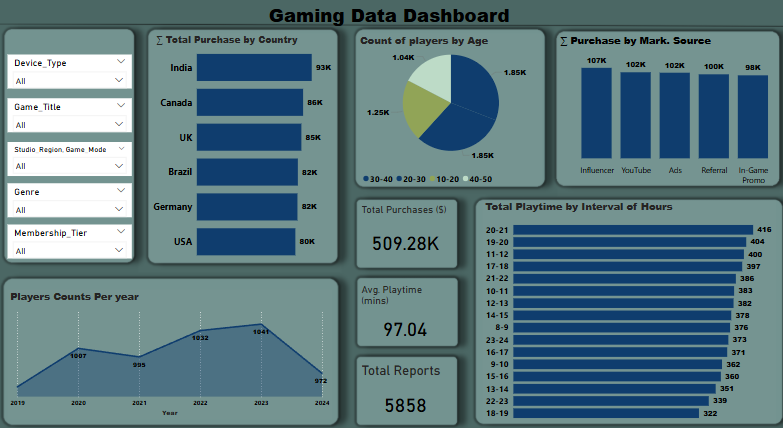

What the dashboard file says about the page in this screenshot:
{"tool":"powerbi","page":{"name":"Gaming Dashboard","canvas":[1500,1200],"ordinal":0},"visuals":[{"type":"pieChart","title":"Count of players by Age","fields":{"Y":["CountNonNull(Gaming_Data_Cleaned.Age)"],"Category":["Gaming_Data_Cleaned.Age_Group"]},"box":[685.9,249.3,346.5,297.2],"z":0},{"type":"shape","title":"Count of players by Age","box":[685.9,249.3,311.3,26.8],"z":1000},{"type":"clusteredColumnChart","title":"∑ Purchase by Mark. Source","fields":{"Category":["Gaming_Data_Cleaned.Marketing_Source"],"Y":["Sum(Gaming_Data_Cleaned.In_Game_Purchases ($))"]},"box":[1062,249.3,438,311.3],"z":2000},{"type":"shape","title":"Gaming Data Dashboard","box":[512.7,190.1,474.6,46.5],"z":3000},{"type":"clusteredBarChart","title":"∑ Purchase by Mark. Source","fields":{"Y":["Sum(Gaming_Data_Cleaned.In_Game_Purchases ($))"],"Category":["Gaming_Data_Cleaned.Country"]},"box":[263.4,249.3,385.9,456.3],"z":4000},{"type":"shape","title":"∑ Total Purchase by Country","box":[298.6,249.3,285.9,26.8],"z":5000},{"type":"slicer","fields":{"Values":["Gaming_Data_Cleaned.Device_Type"]},"box":[14.1,291.5,236.6,64.8],"z":6000},{"type":"slicer","fields":{"Values":["Gaming_Data_Cleaned.Game_Title"]},"box":[14.1,373.2,236.6,64.8],"z":7000},{"type":"slicer","fields":{"Values":["Gaming_Data_Cleaned.Membership_Tier"]},"box":[14.1,614.1,236.6,64.8],"z":8000},{"type":"slicer","fields":{"Values":["Gaming_Data_Cleaned.Studio_Region","Gaming_Data_Cleaned.Game_Mode"]},"box":[14.1,456.3,236.6,64.8],"z":9000},{"type":"slicer","fields":{"Values":["Gaming_Data_Cleaned.Genre"]},"box":[14.1,535.2,236.6,64.8],"z":10000},{"type":"stackedAreaChart","title":"Players Counts Per year","fields":{"Category":["Gaming_Data_Cleaned.Join_Date.Variation.Date Hierarchy.Year","Gaming_Data_Cleaned.Join_Date.Variation.Date Hierarchy.Quarter"],"Y":["CountNonNull(Gaming_Data_Cleaned.Player_ID)"]},"box":[14.1,738,618.3,247.9],"z":11000},{"type":"clusteredBarChart","title":"Total Playtime by Interval of Hours","fields":{"Y":["CountNonNull(Gaming_Data_Cleaned.Player_ID)"],"Category":["Gaming_Data_Cleaned.Session_Interval"]},"box":[918.3,567.6,559.2,431],"z":12000},{"type":"card","title":"Total Purchases ($)","fields":{"Values":["Sum(Gaming_Data_Cleaned.In_Game_Purchases ($))"]},"box":[685.9,567.6,173.2,128.2],"z":13000},{"type":"card","title":"Total Reports","fields":{"Values":["Sum(Gaming_Data_Cleaned.Support_Tickets_Raised)"]},"box":[685.9,870.4,173.2,128.2],"z":14000},{"type":"card","title":"Avg. Playtime (mins)","fields":{"Values":["Avg(Gaming_Data_Cleaned.Daily_Playtime (mins))"]},"box":[685.9,719.7,173.2,128.2],"z":15000}]}

Visuals, with their boxes on the page's 1500x1200 design canvas (x1, y1, x2, y2). These are canvas units, not pixel positions in the 783x428 screenshot, which may show the page scaled, cropped or inside an application window:
"Count of players by Age" pieChart: pyautogui.locateOnScreen(686, 249, 1032, 546)
"Count of players by Age" shape: pyautogui.locateOnScreen(686, 249, 997, 276)
"∑ Purchase by Mark. Source" clusteredColumnChart: pyautogui.locateOnScreen(1062, 249, 1500, 561)
"Gaming Data Dashboard" shape: pyautogui.locateOnScreen(513, 190, 987, 237)
"∑ Purchase by Mark. Source" clusteredBarChart: pyautogui.locateOnScreen(263, 249, 649, 706)
"∑ Total Purchase by Country" shape: pyautogui.locateOnScreen(299, 249, 584, 276)
slicer - Gaming_Data_Cleaned.Device_Type: pyautogui.locateOnScreen(14, 292, 251, 356)
slicer - Gaming_Data_Cleaned.Game_Title: pyautogui.locateOnScreen(14, 373, 251, 438)
slicer - Gaming_Data_Cleaned.Membership_Tier: pyautogui.locateOnScreen(14, 614, 251, 679)
slicer - Gaming_Data_Cleaned.Studio_Region x Gaming_Data_Cleaned.Game_Mode: pyautogui.locateOnScreen(14, 456, 251, 521)
slicer - Gaming_Data_Cleaned.Genre: pyautogui.locateOnScreen(14, 535, 251, 600)
"Players Counts Per year" stackedAreaChart: pyautogui.locateOnScreen(14, 738, 632, 986)
"Total Playtime by Interval of Hours" clusteredBarChart: pyautogui.locateOnScreen(918, 568, 1478, 999)
"Total Purchases ($)" card: pyautogui.locateOnScreen(686, 568, 859, 696)
"Total Reports" card: pyautogui.locateOnScreen(686, 870, 859, 999)
"Avg. Playtime (mins)" card: pyautogui.locateOnScreen(686, 720, 859, 848)
